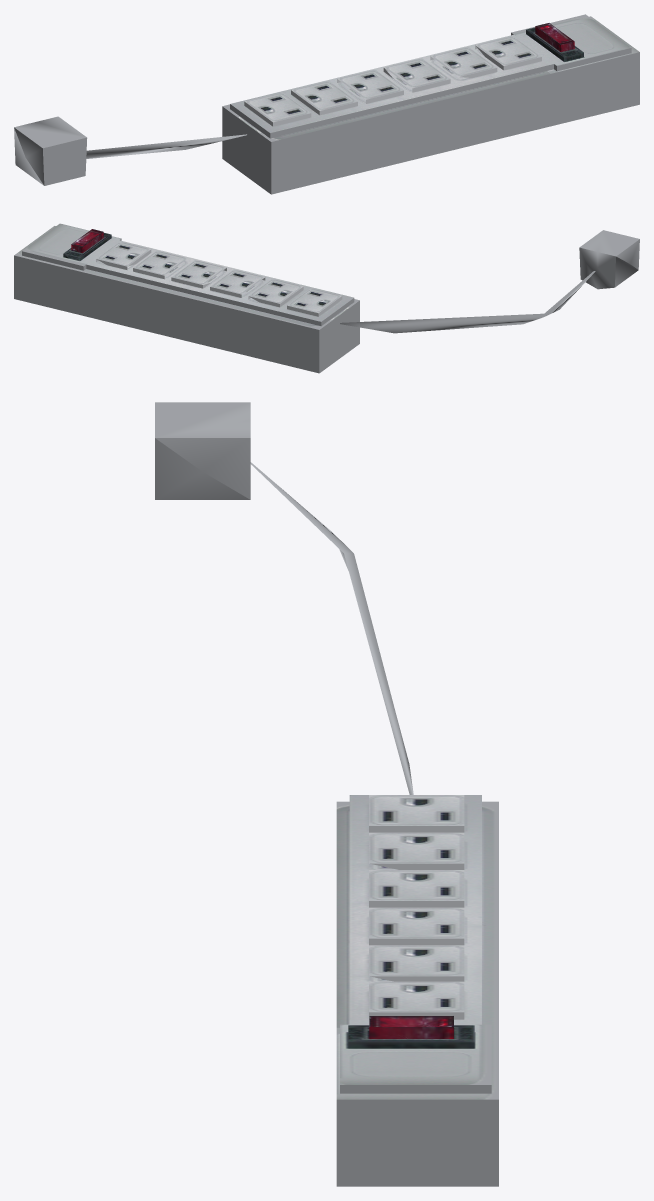
File: powerstrip_l_lod3.fbx
3 views of the same model, one above another, from view 1: azimuth 30°, elevation 25°; view 2: azimuth 150°, elevation 25°; view 3: azimuth 270°, elevation 25° (orthographic). The views are drawn at different scales.
Visible parts, largest first — view 1: body, sockets, Box02, cord, light, lightbase; view 2: body, sockets, Box02, cord, light, lightbase; view 3: body, sockets, Box02, cord, light, lightbase.
Boxes of the visible parts, x1,y1,x2,y2 form: body: [222, 14, 639, 194]; sockets: [244, 36, 541, 126]; Box02: [14, 116, 87, 185]; cord: [86, 134, 246, 158]; light: [535, 23, 574, 51]; lightbase: [526, 27, 583, 61]; body: [14, 223, 359, 373]; sockets: [96, 241, 342, 316]; Box02: [579, 230, 639, 289]; cord: [340, 271, 595, 333]; light: [71, 229, 103, 252]; lightbase: [63, 233, 111, 260]; body: [336, 795, 498, 1186]; sockets: [369, 795, 464, 1019]; Box02: [155, 402, 250, 499]; cord: [250, 462, 413, 794]; light: [369, 1015, 453, 1038]; lightbase: [348, 1025, 474, 1048].
Bounding box in the file's own units: 2.31 × 0.5236 × 0.6337.
